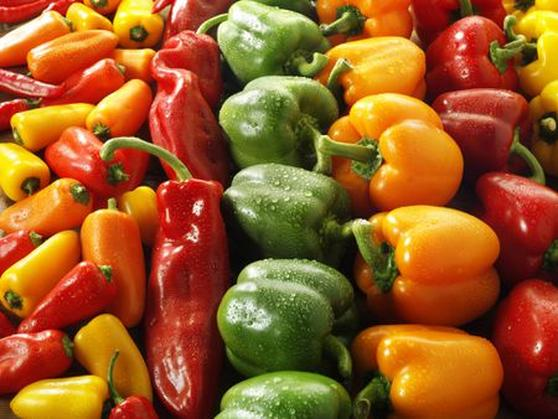pepper: (147, 175, 235, 414)
